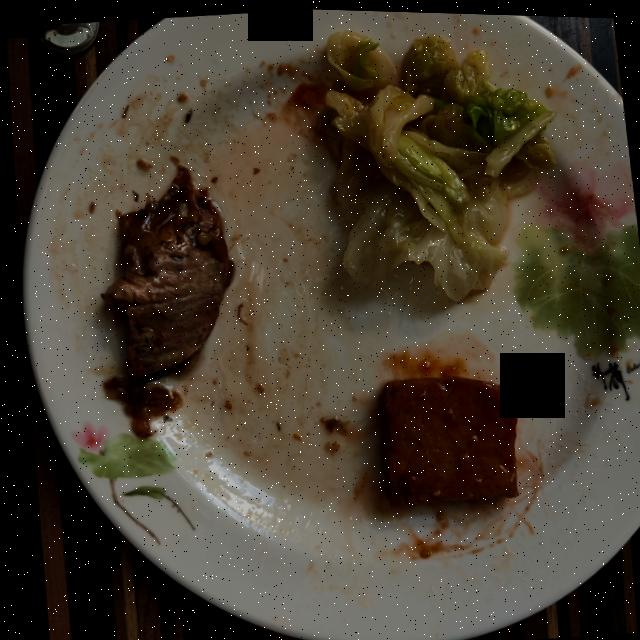Kabayaki sea bream fillet: (100, 164, 232, 437)
cabbage: (315, 28, 554, 298)
coin: (34, 20, 99, 55)
creamy tofu: (377, 374, 514, 504)
